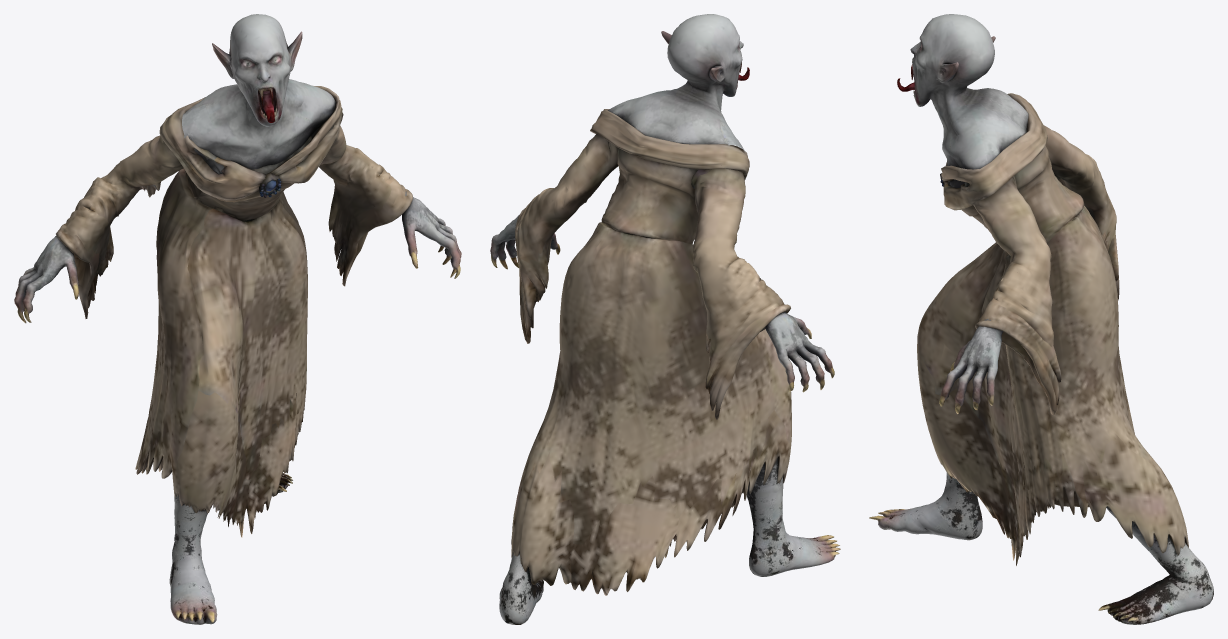
The model's file is MZ4250 - Nosferatu Vampire Female 2025.glb.
The picture shows the model from 3 angles, left to right: view 1: azimuth 30°, elevation 25°; view 2: azimuth 150°, elevation 25°; view 3: azimuth 270°, elevation 25°; orthographic projection. The views are drawn at different scales.
Parts seen in each view (by area): view 1: Body.001; view 2: Body.001; view 3: Body.001.
Boxes of the visible parts, x1,y1,x2,y2 form: Body.001: [14, 14, 461, 624]; Body.001: [490, 14, 840, 624]; Body.001: [869, 14, 1213, 624].
Size of the model in its own units: 65.22 by 89.22 by 50.4.
2 materials, 2 textured.
